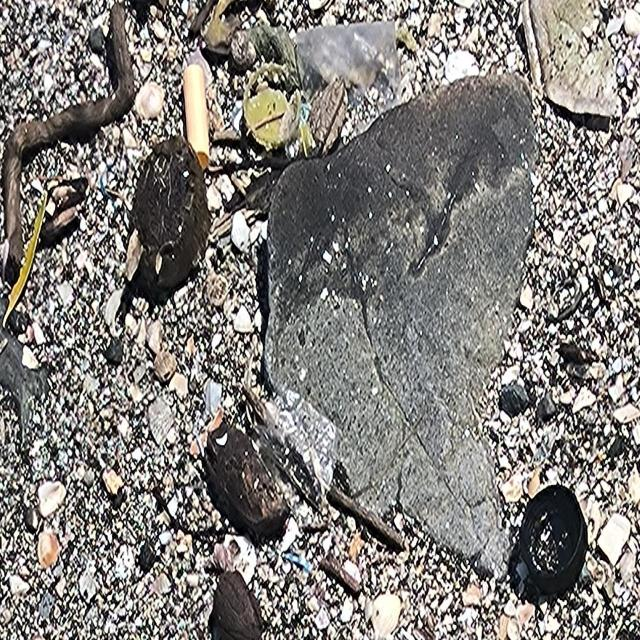plastic_waste: (520, 485, 590, 597)
